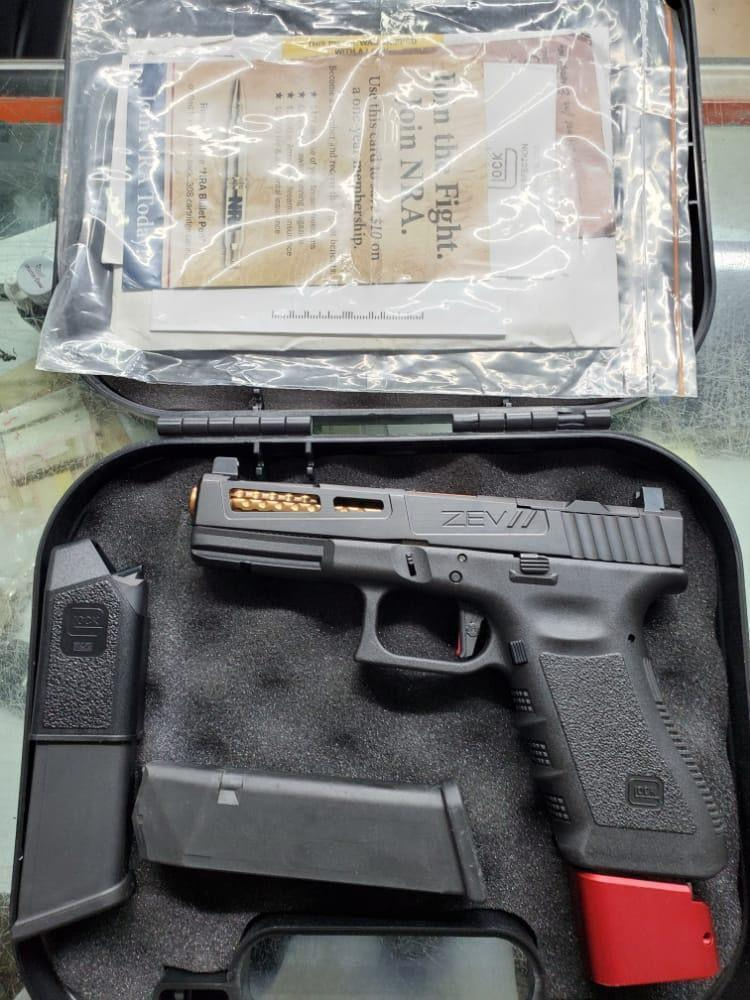weapon: (186, 452, 734, 880)
